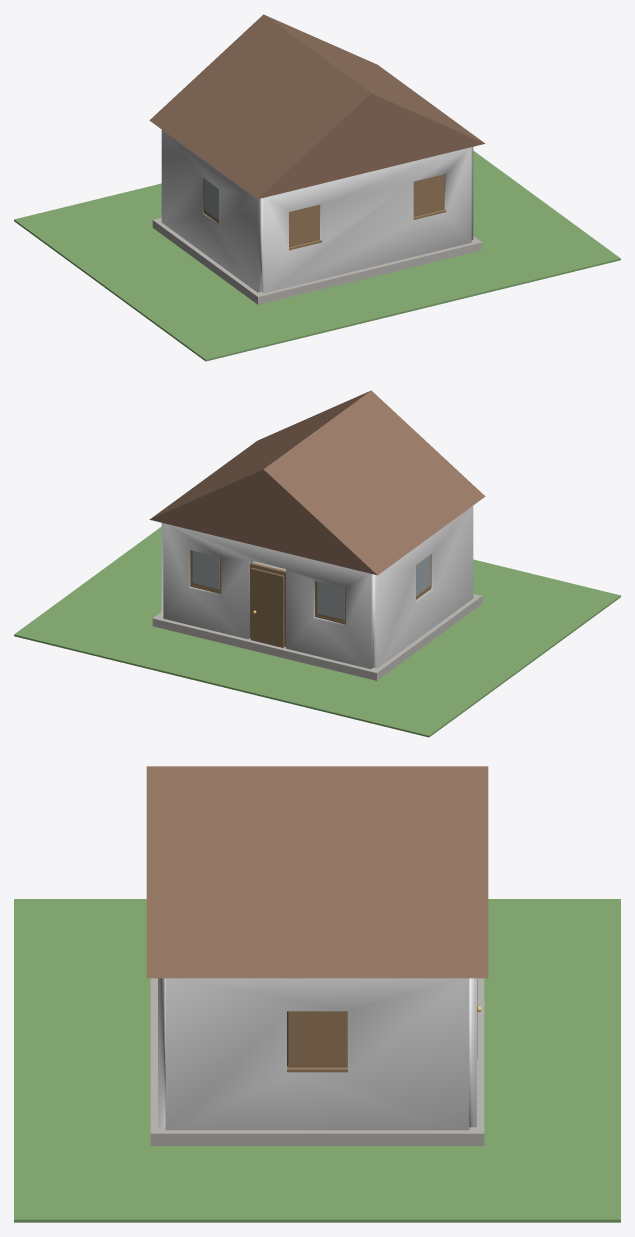
File: house_cottage_stone.glb
3 renders of one model, top to bottom at view 1: azimuth 30°, elevation 25°; view 2: azimuth 150°, elevation 25°; view 3: azimuth 270°, elevation 25°, orthographic. The views are drawn at different scales.
Visible parts, largest first — view 1: ground, roof, back_wall, left_wall, foundation, frame (×3); view 2: ground, roof, front_wall, left_wall, foundation, frame (×3), panel, glass (×2); view 3: ground, roof, right_wall, foundation, frame, front_wall, back_wall.
Part boxes in pixels (<box>): ground: <box>14,150,620,361</box>; roof: <box>149,14,485,199</box>; back_wall: <box>261,147,471,293</box>; left_wall: <box>161,130,261,292</box>; foundation: <box>152,218,482,304</box>; frame (×3): <box>203,174,444,246</box>; ground: <box>14,526,620,737</box>; roof: <box>149,390,485,575</box>; front_wall: <box>163,523,373,669</box>; left_wall: <box>373,506,473,668</box>; foundation: <box>152,594,482,680</box>; frame (×3): <box>190,550,431,622</box>; panel: <box>250,568,284,647</box>; glass (×2): <box>192,551,344,619</box>; ground: <box>14,899,620,1222</box>; roof: <box>146,766,488,978</box>; right_wall: <box>165,978,469,1130</box>; foundation: <box>150,978,484,1145</box>; frame: <box>287,1011,347,1067</box>; front_wall: <box>469,978,476,1127</box>; back_wall: <box>158,978,165,1127</box>.
Bounding box in the file's own units: 10 × 4.3 × 8.
